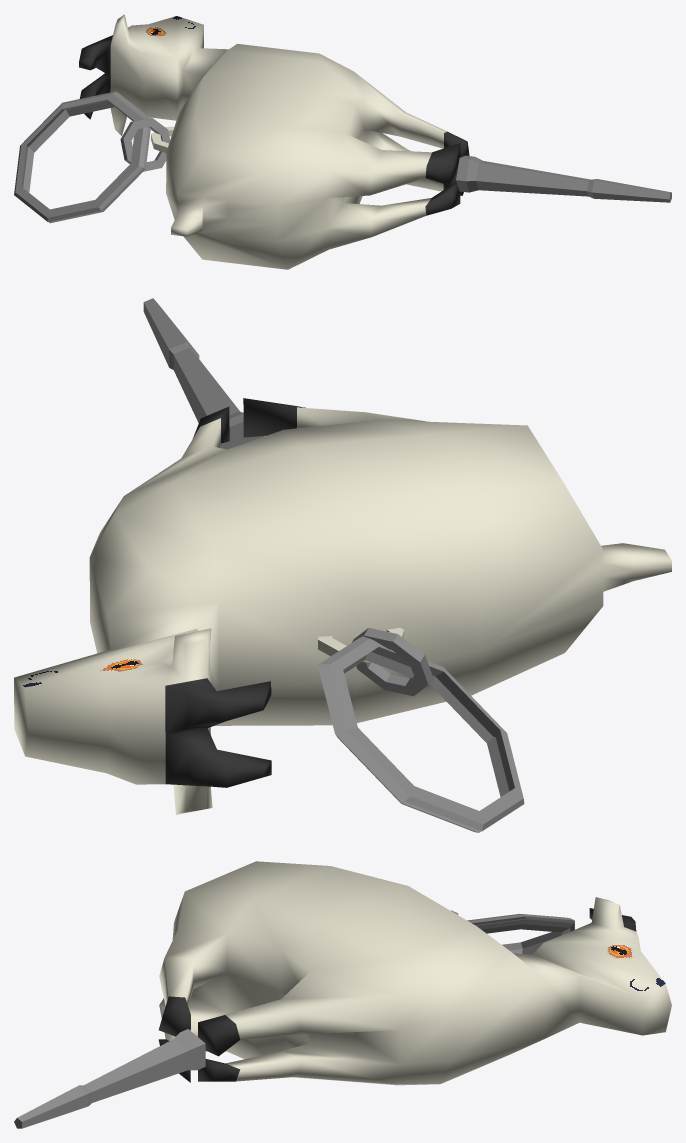
Rendered from Goat.fbx.
3 renders of one model, top to bottom at view 1: azimuth 30°, elevation 25°; view 2: azimuth 150°, elevation 25°; view 3: azimuth 270°, elevation 25°, orthographic. The views are drawn at different scales.
Visible parts, largest first — view 1: Goat.001, Keychain.001, Pole.001, Keychain; view 2: Goat.001, Keychain.001, Pole.001, Keychain; view 3: Goat.001, Pole.001, Keychain.001.
Boxes of the visible parts, x1,y1,x2,y2 form: Goat.001: [79, 14, 469, 269]; Keychain.001: [14, 91, 150, 223]; Pole.001: [456, 155, 671, 202]; Keychain: [120, 117, 170, 171]; Goat.001: [14, 398, 671, 814]; Keychain.001: [317, 636, 524, 832]; Pole.001: [143, 298, 264, 449]; Keychain: [352, 628, 432, 696]; Goat.001: [158, 861, 671, 1085]; Pole.001: [14, 1029, 205, 1128]; Keychain.001: [467, 914, 574, 954].
Bounding box in the file's own units: 80.68 × 23.41 × 93.55.
